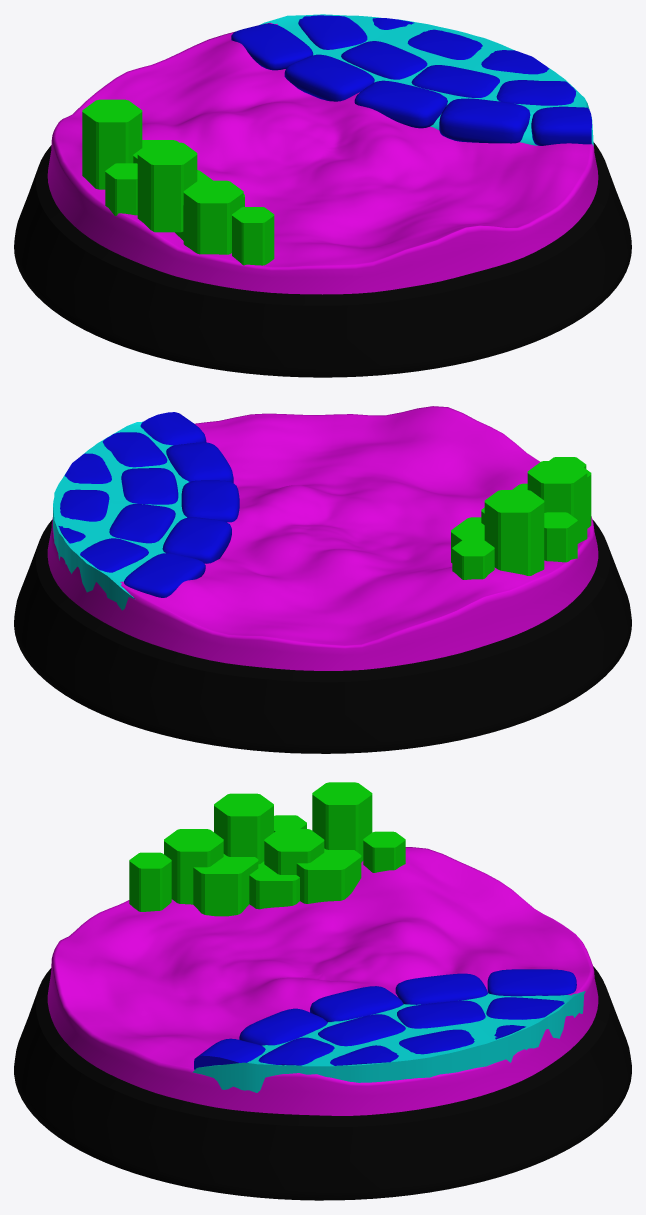
File: TTT-Defaultbase.fbx
The picture shows the model from 3 angles, top to bottom: view 1: azimuth 30°, elevation 25°; view 2: azimuth 150°, elevation 25°; view 3: azimuth 270°, elevation 25°; orthographic projection.
Visible parts, largest first — view 1: pCylinder12; view 2: pCylinder12; view 3: pCylinder12.
Boxes of the visible parts, x1,y1,x2,y2 form: pCylinder12: (14,14,631,377); pCylinder12: (14,406,631,753); pCylinder12: (14,782,631,1200).
Size of the model in its own units: 6.87 by 2.19 by 6.87.
